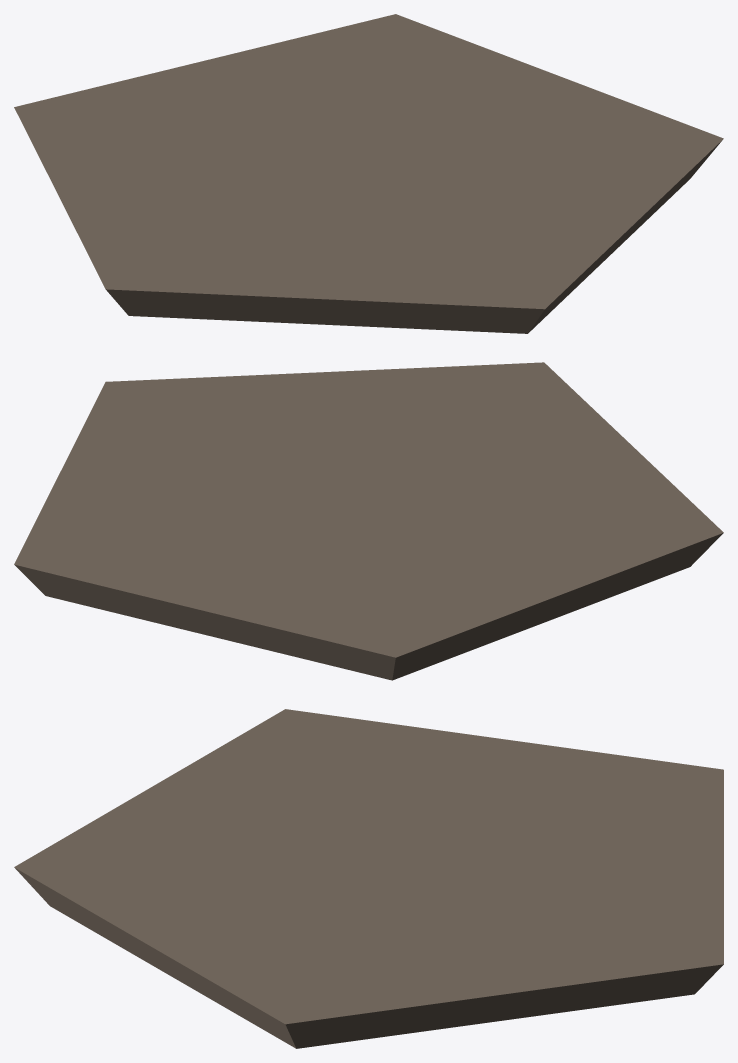
Rendered from SmallTiles.fbx.
3 renders of one model, top to bottom at view 1: azimuth 30°, elevation 25°; view 2: azimuth 150°, elevation 25°; view 3: azimuth 270°, elevation 25°, orthographic. The views are drawn at different scales.
Parts seen in each view (by area): view 1: Petite Tuile_original; view 2: Petite Tuile_original; view 3: Petite Tuile_original.
Boxes of the visible parts, x1,y1,x2,y2 form: Petite Tuile_original: [14, 14, 723, 333]; Petite Tuile_original: [14, 362, 723, 680]; Petite Tuile_original: [14, 709, 723, 1048].
Size of the model in its own units: 3013 by 175 by 2867.
